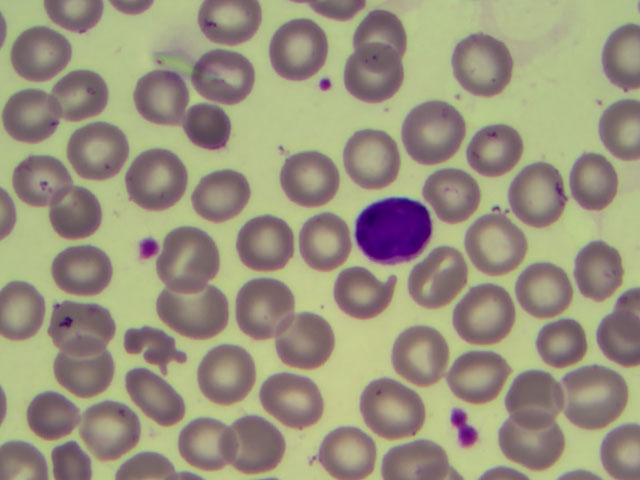Platelets: (445, 400, 489, 455), (137, 229, 163, 269), (314, 77, 340, 100)
RBC: (216, 409, 282, 480), (175, 409, 241, 480), (315, 409, 381, 480), (9, 22, 75, 92), (57, 61, 123, 131), (1, 89, 67, 159), (60, 114, 126, 184), (16, 143, 82, 213), (45, 181, 111, 251), (52, 233, 118, 303), (51, 293, 117, 363), (54, 342, 120, 412), (29, 367, 95, 437), (107, 362, 173, 432), (89, 396, 155, 466), (120, 316, 186, 386), (160, 275, 226, 345), (163, 220, 229, 290), (196, 165, 262, 235), (131, 151, 197, 221), (178, 95, 244, 165), (130, 63, 196, 133), (186, 36, 252, 106), (258, 17, 324, 87), (344, 42, 410, 112), (452, 30, 518, 100), (407, 98, 473, 168), (333, 118, 399, 188), (283, 152, 349, 222), (294, 207, 360, 277), (234, 208, 300, 278), (223, 269, 289, 339), (270, 309, 336, 379), (195, 342, 261, 412), (261, 368, 327, 438), (366, 368, 432, 438), (391, 320, 457, 390), (332, 267, 398, 337), (398, 250, 464, 320), (457, 204, 523, 274), (497, 161, 563, 231), (425, 164, 491, 234), (464, 114, 530, 184), (571, 146, 637, 216), (567, 234, 633, 304), (516, 256, 582, 326), (465, 279, 531, 349), (454, 342, 520, 412), (503, 362, 569, 432), (511, 396, 577, 466), (560, 367, 626, 437), (574, 305, 640, 375), (1, 275, 66, 345), (595, 26, 640, 101), (46, 443, 96, 480)
WBC: (355, 198, 431, 264)
